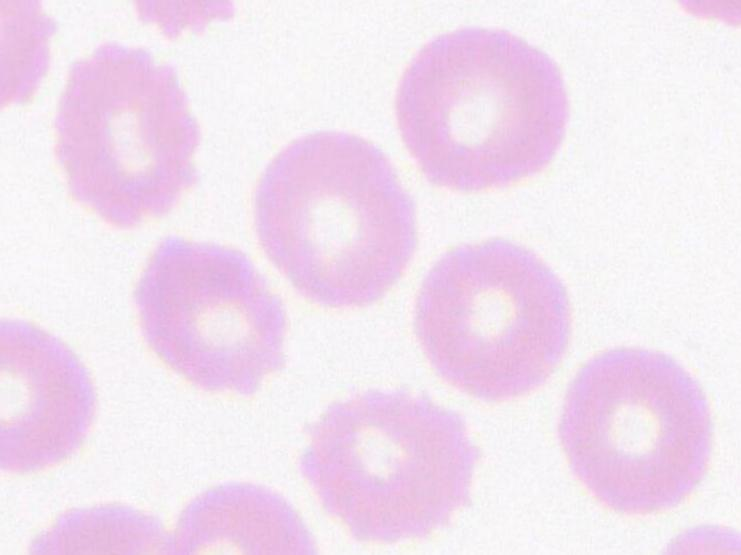Uninfected: (249, 126, 421, 307), (391, 26, 571, 192), (131, 235, 291, 399), (303, 389, 479, 538), (59, 43, 200, 227), (559, 345, 709, 516), (417, 240, 572, 400), (0, 312, 97, 474)
